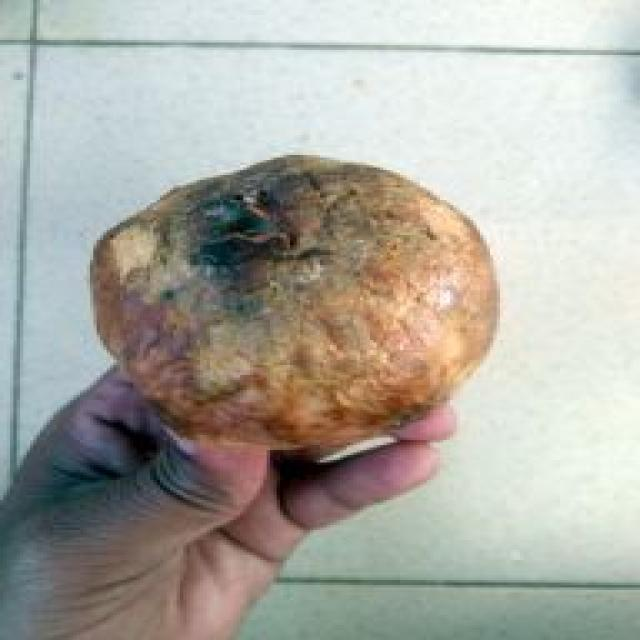Bad_Guava: (92, 155, 498, 456)
